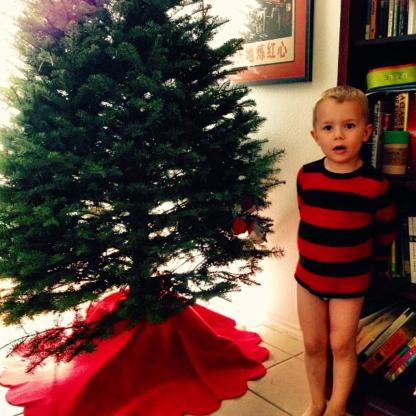book: (356, 59, 416, 181), (356, 304, 416, 402), (371, 211, 415, 284), (361, 0, 415, 40)
